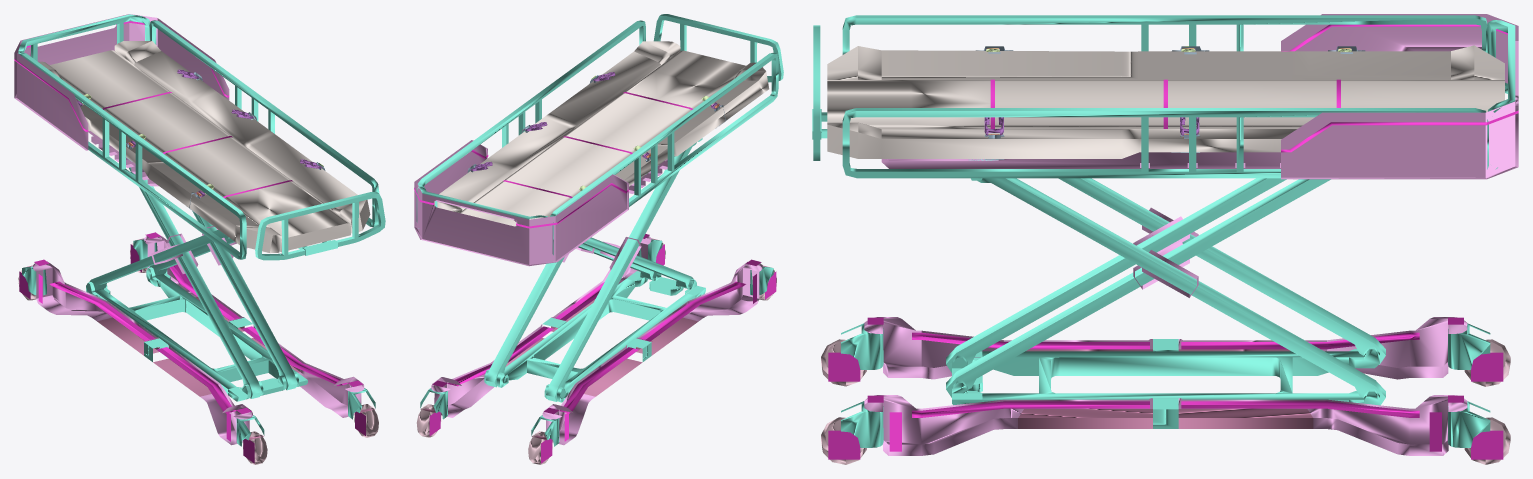
File: bed_medical_1_a.glb
3 views of the same model, side by side, from view 1: azimuth 30°, elevation 25°; view 2: azimuth 150°, elevation 25°; view 3: azimuth 270°, elevation 25° (orthographic). The views are drawn at different scales.
Size of the model in its own units: 0.6719 by 1.12 by 2.
